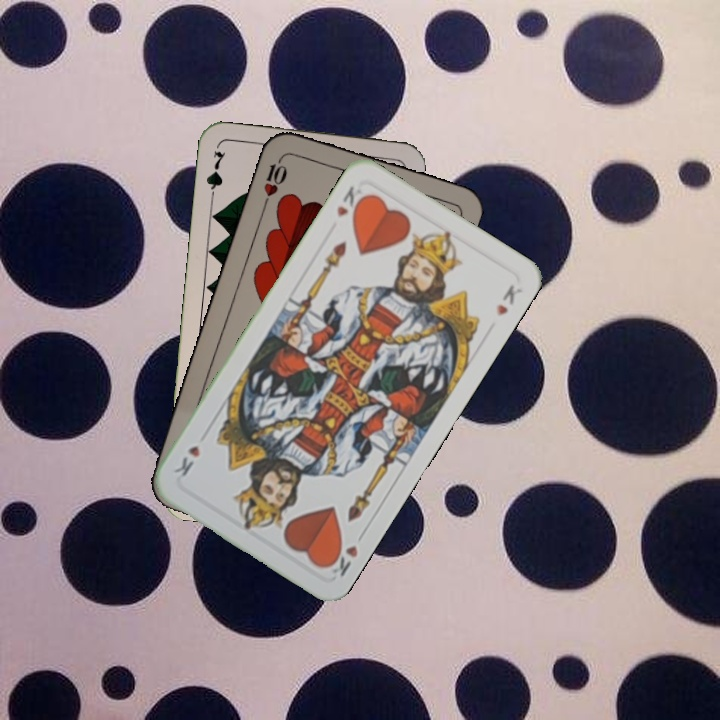G7: (202, 147, 228, 205)
H10: (259, 151, 290, 208)
HK: (321, 527, 368, 580), (332, 181, 369, 222)
